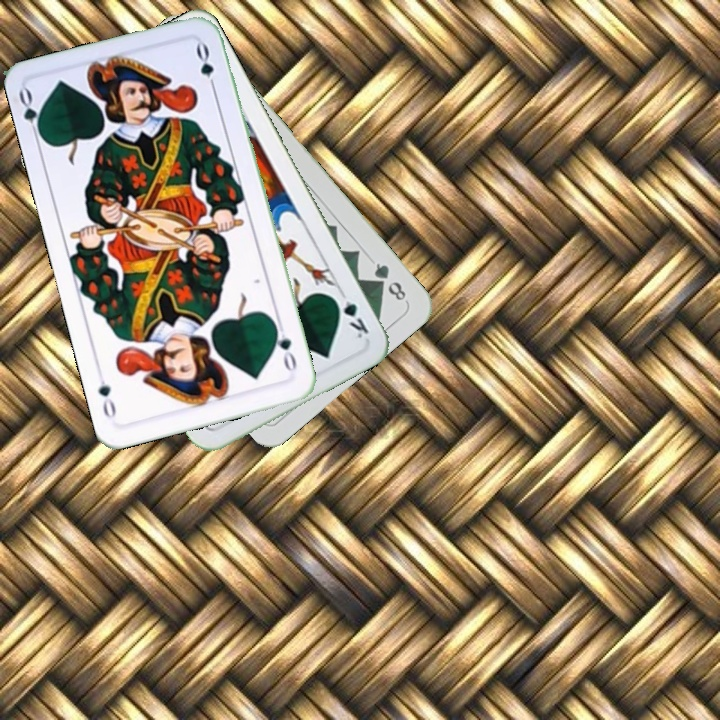G8: (369, 259, 409, 305)
GK: (329, 286, 372, 341)
GO: (14, 85, 47, 144), (270, 319, 300, 378)
